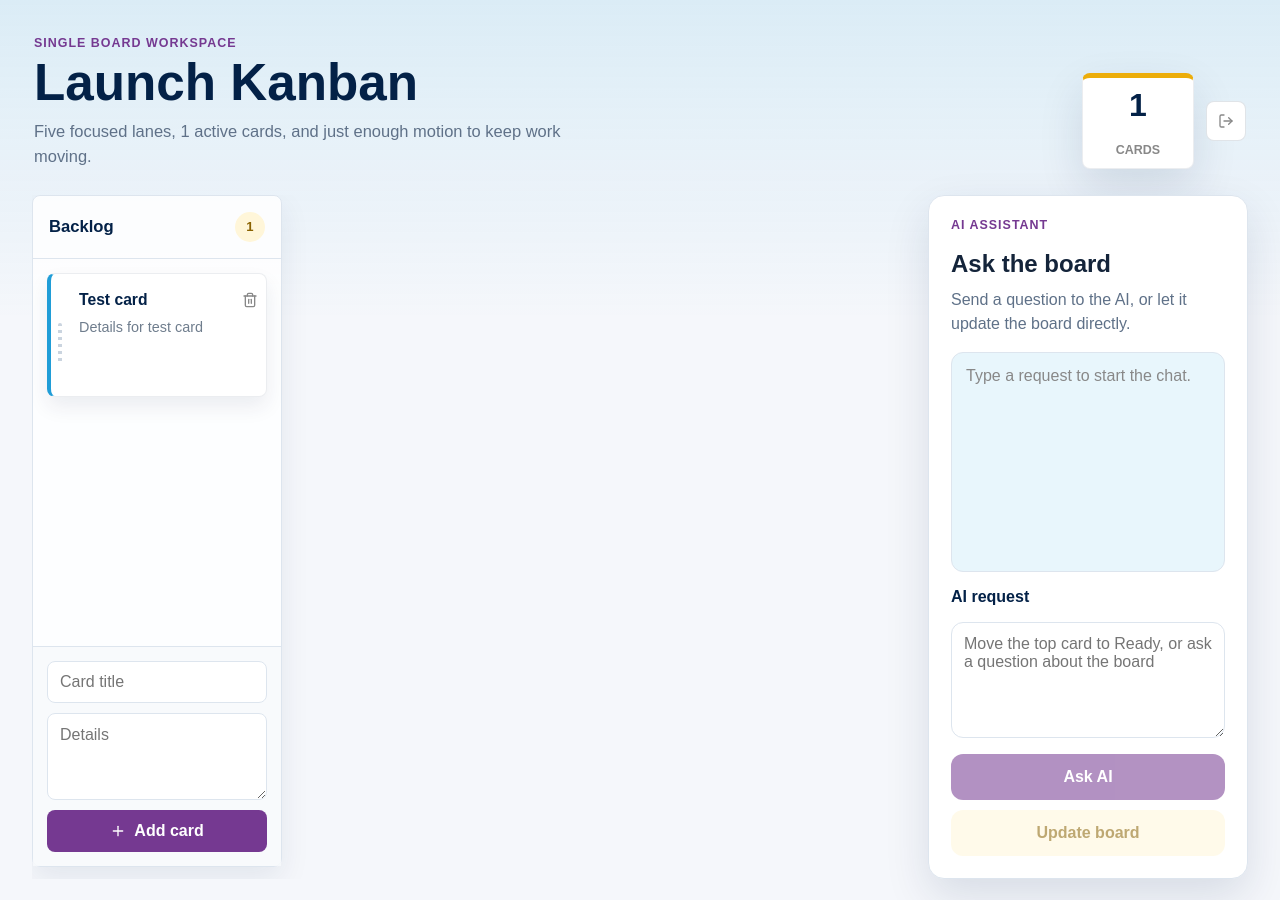
Test case: KanbanBoard API integration › adds a new card through the backend API
The width and height of the screenshot is (1280, 900).
Type "New card" into the field named "New Backlog card title" at coordinates (157, 682), box x1=47 y1=661 x2=267 y2=703
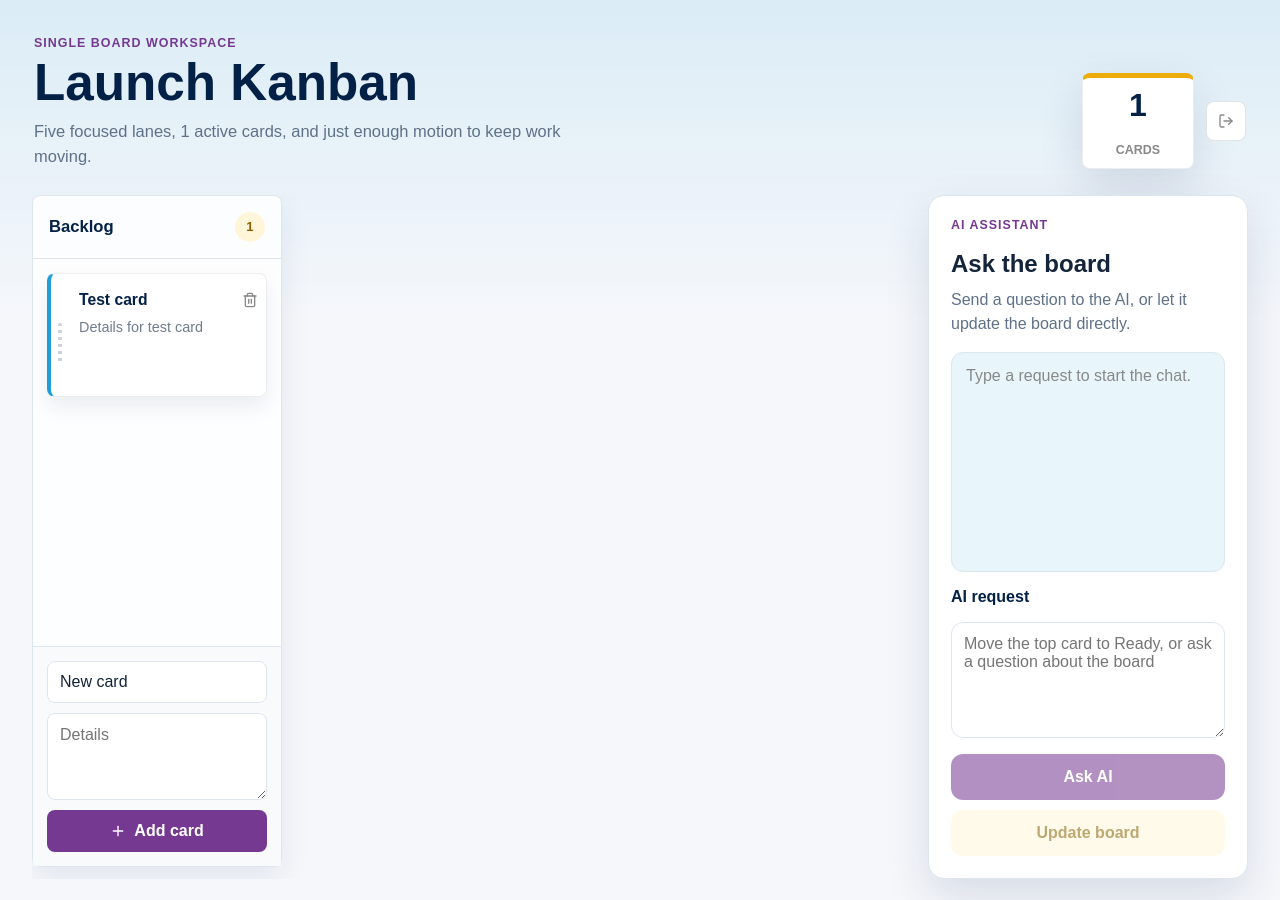
Type "New details" into the text box named "New Backlog card details" at coordinates (157, 756), box x1=47 y1=713 x2=267 y2=800
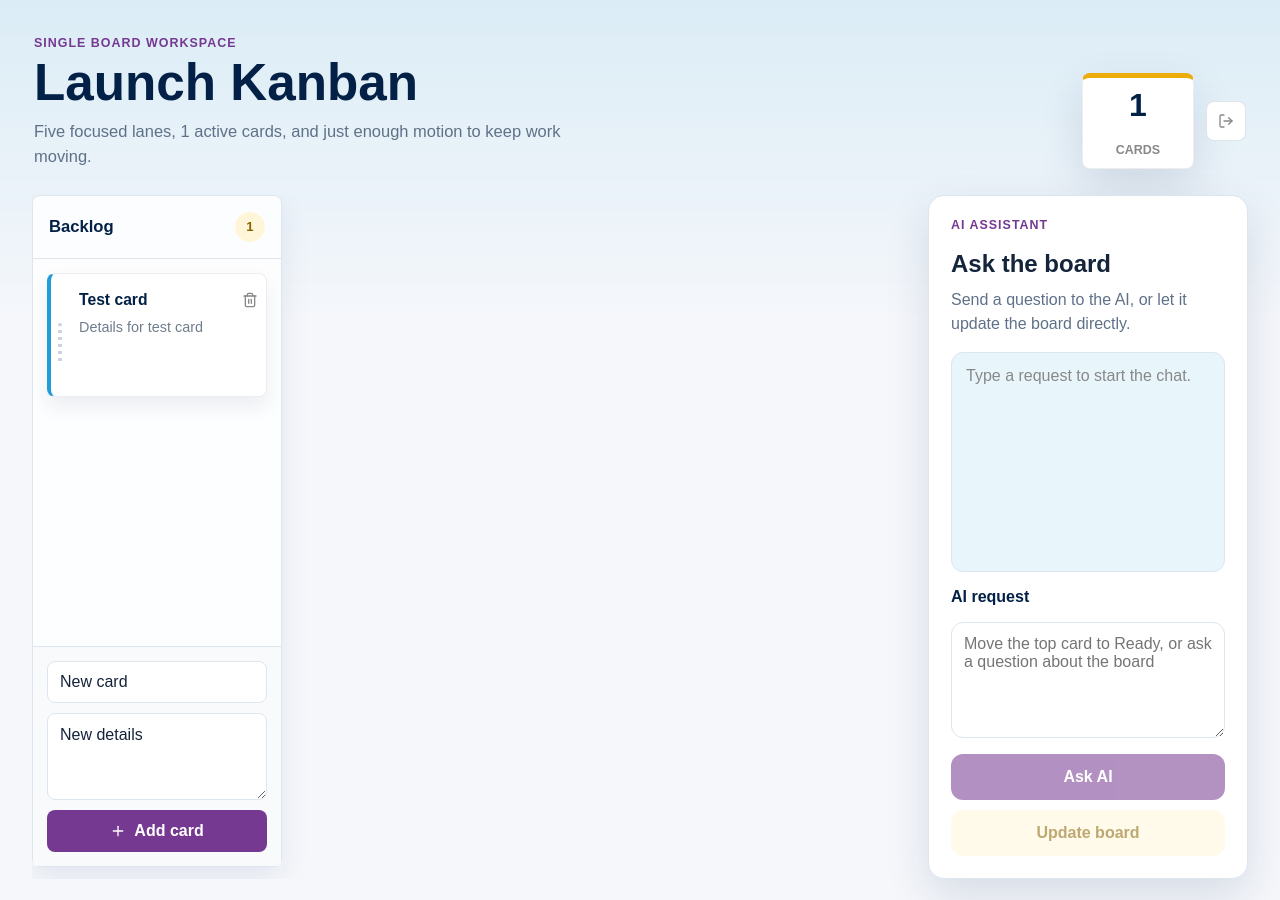
Click the button "Add card" at coordinates (157, 831), box x1=47 y1=810 x2=267 y2=852
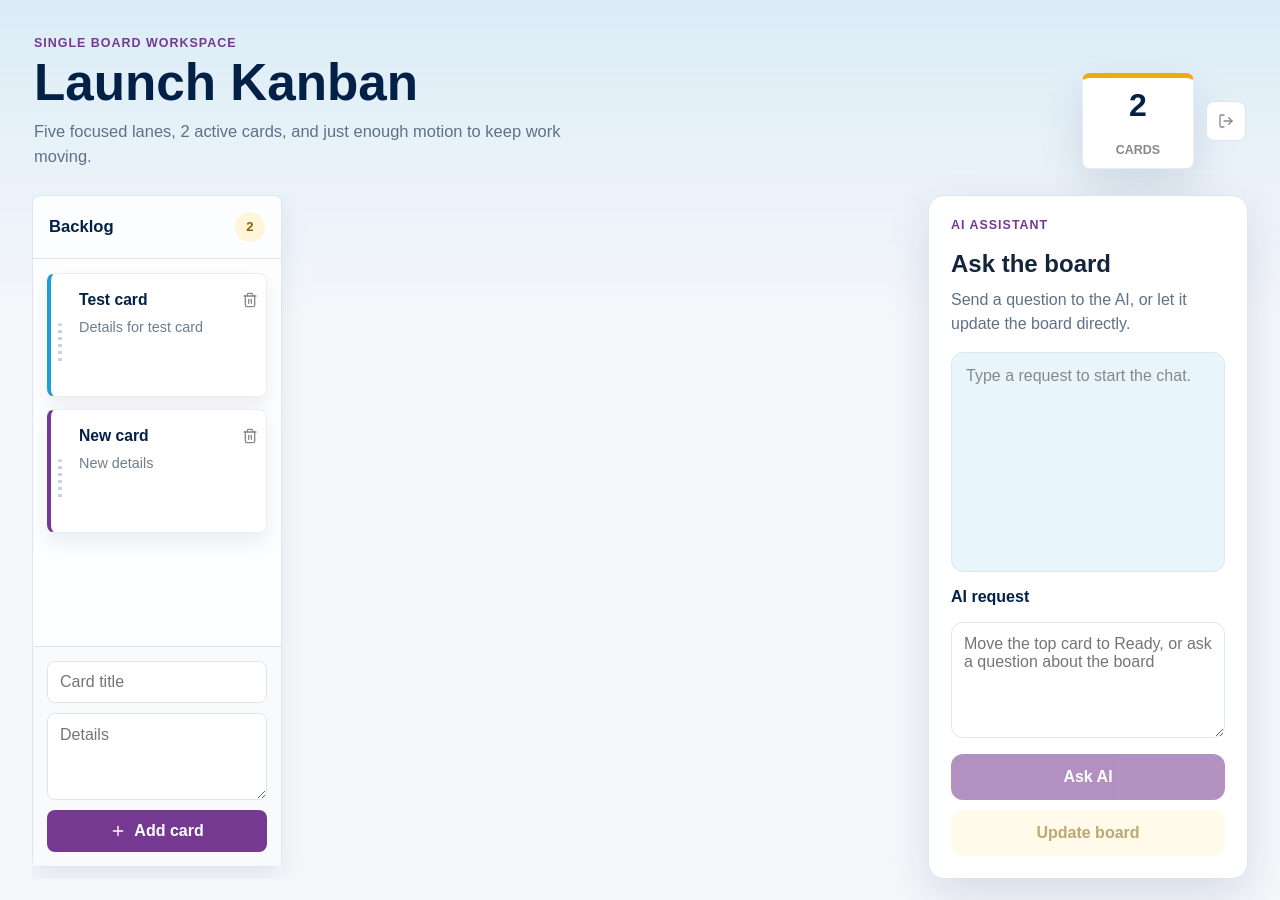
Check: the heading "New card" is shown, box x1=79 y1=427 x2=149 y2=444
